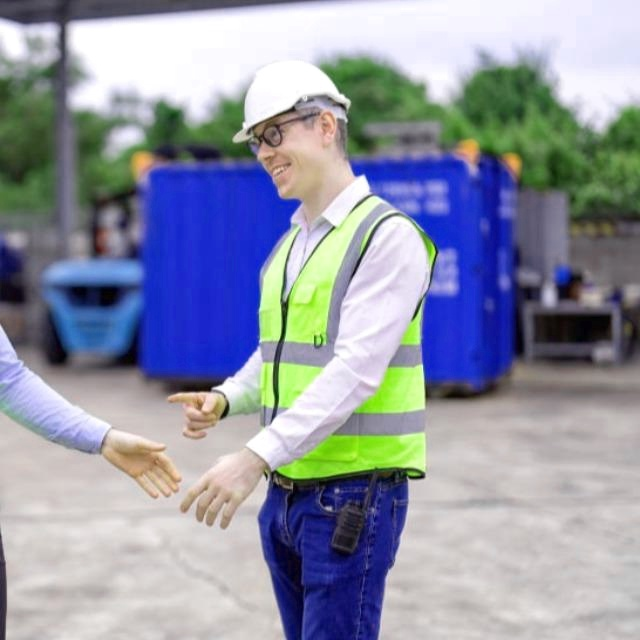Con_Casco: (234, 61, 348, 200)
Con_Chaleco: (244, 206, 434, 481)
